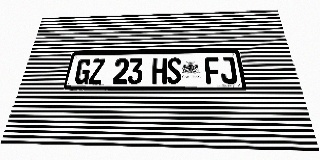2: (113, 58, 129, 84)
3: (127, 58, 143, 84)
F: (204, 57, 222, 84)
G: (74, 59, 92, 84)
H: (152, 58, 166, 84)
J: (219, 57, 238, 84)
S: (167, 57, 182, 84)
Z: (88, 59, 105, 84)
